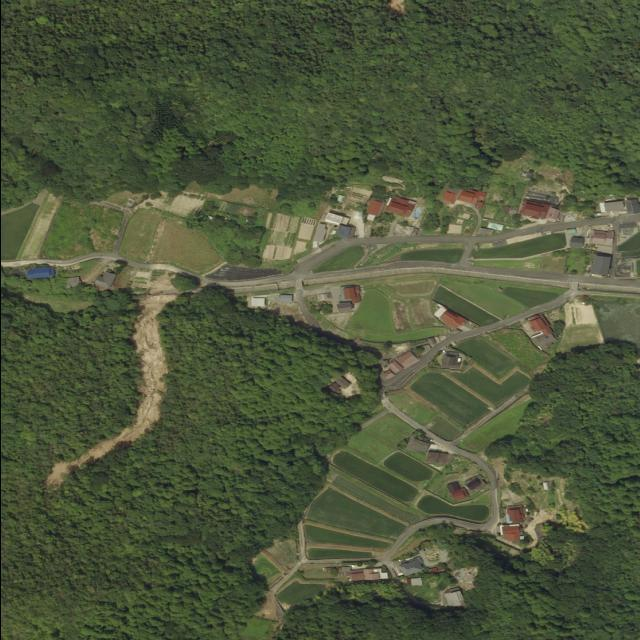landslide: (44, 295, 174, 487)
